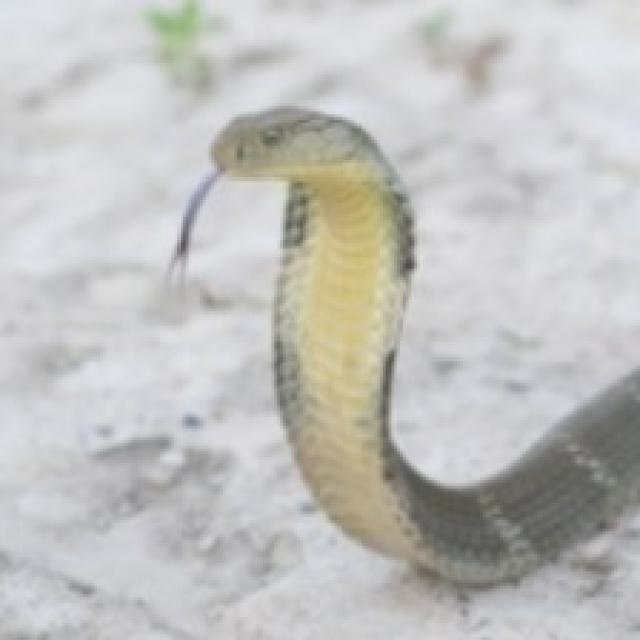king cobra: (171, 109, 637, 583)
